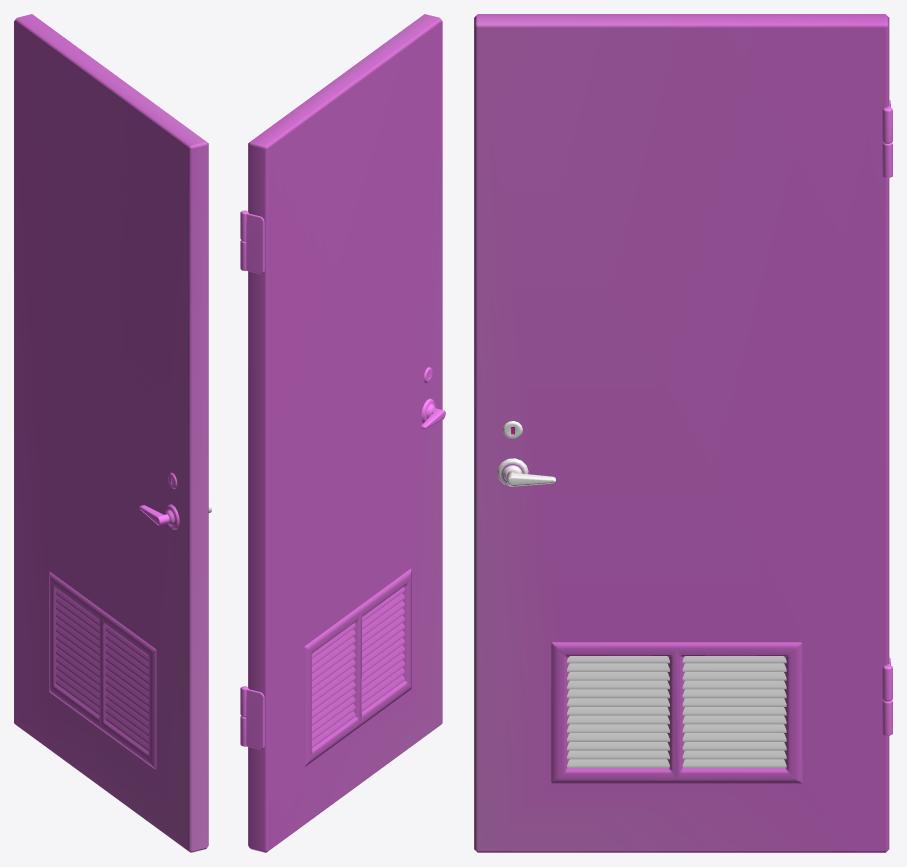
Rendered from SM_Door_Basement_A.FBX.
3 views of the same model, side by side, from view 1: azimuth 30°, elevation 25°; view 2: azimuth 150°, elevation 25°; view 3: azimuth 270°, elevation 25° (orthographic). The views are drawn at different scales.
Visible parts, largest first — view 1: SM_Door_Basement_A; view 2: SM_Door_Basement_A; view 3: SM_Door_Basement_A.
Boxes of the visible parts, x1,y1,x2,y2 form: SM_Door_Basement_A: (14, 14, 211, 852); SM_Door_Basement_A: (240, 14, 445, 852); SM_Door_Basement_A: (474, 14, 892, 852).
Size of the model in its own units: 16.33 by 95.05 by 208.
